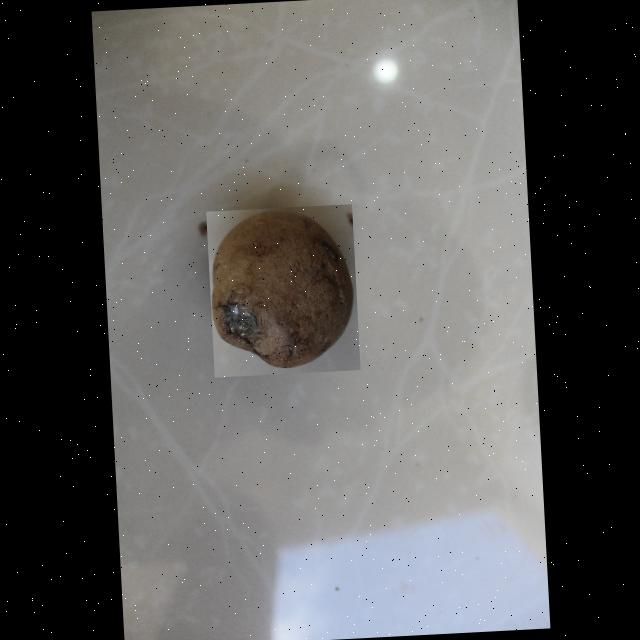Diseased-fungal potato: (206, 205, 360, 378)
